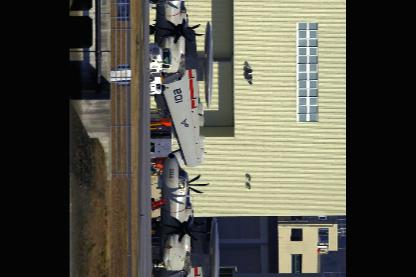C5: (149, 0, 214, 168), (150, 151, 220, 276)
